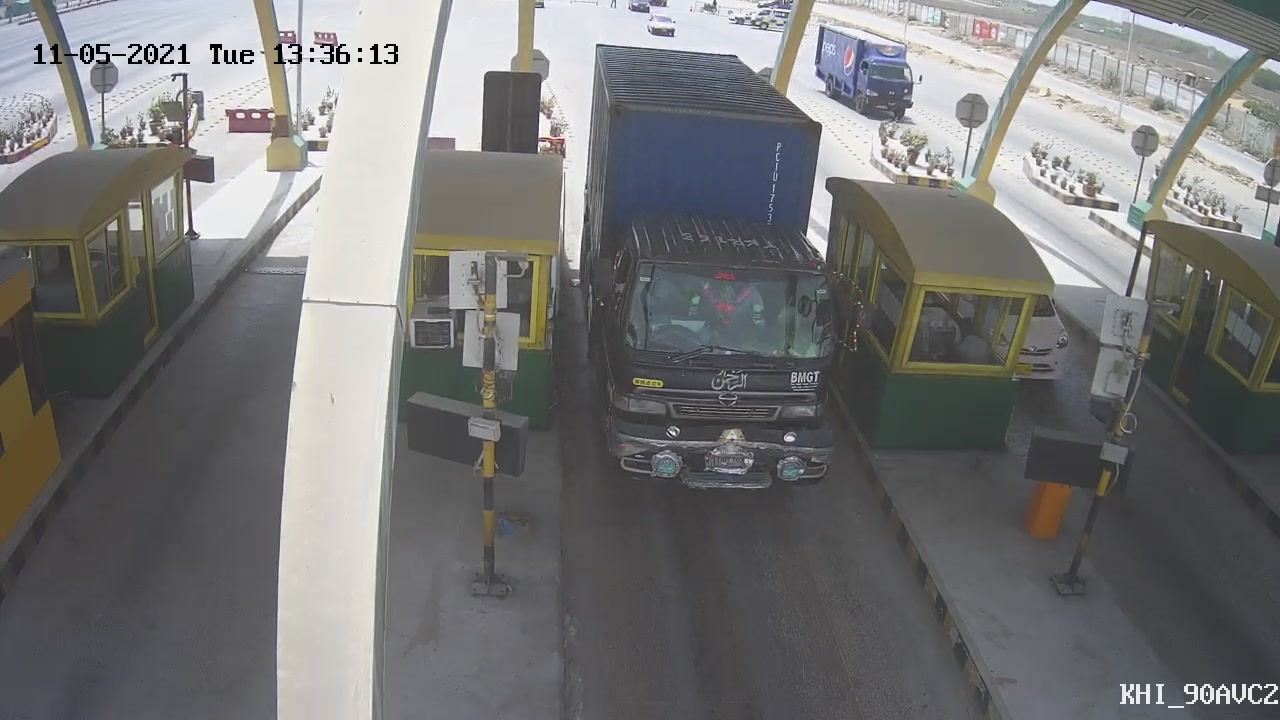F5: (580, 39, 840, 497)
